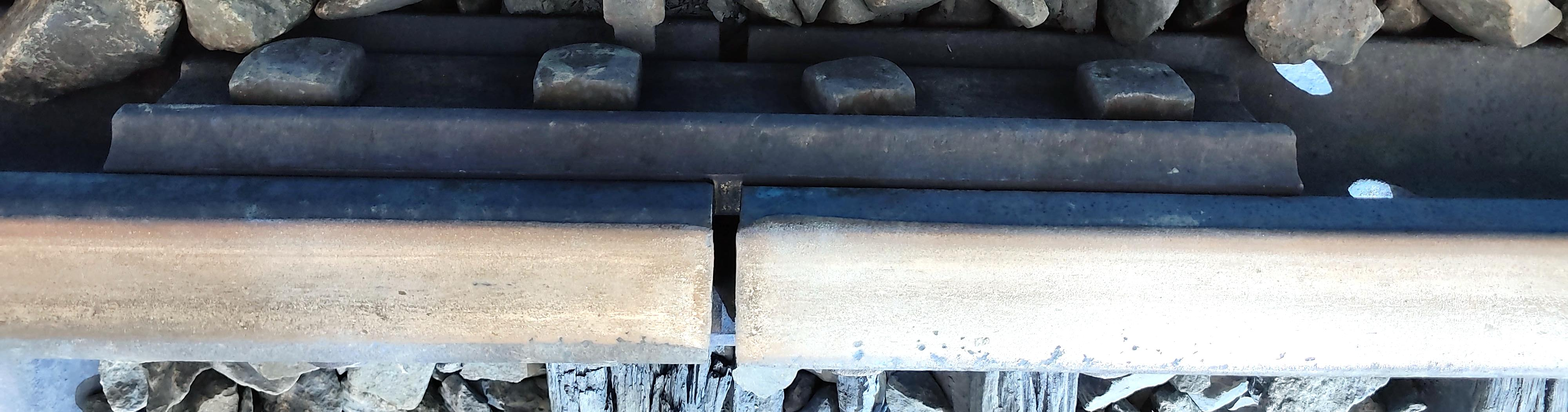duan lie: (680, 181, 777, 374)
